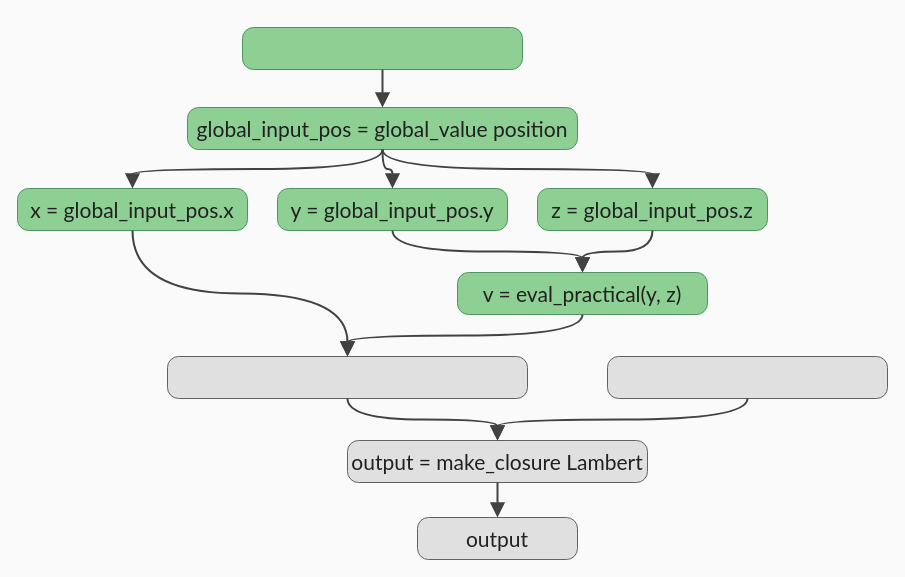
This 905x577 diagram has some shape labels left out. The centre of each missing label's shape, as x and y in pixels:
basecolor = texture2d_sample(x, v): the point at 347,377
fake_normal = vector(0, 1, 0): the point at 747,377
position: the point at 382,48
